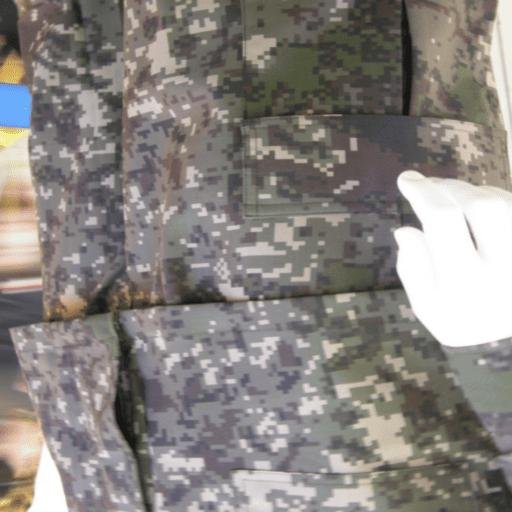korea army: (9, 0, 510, 510)
